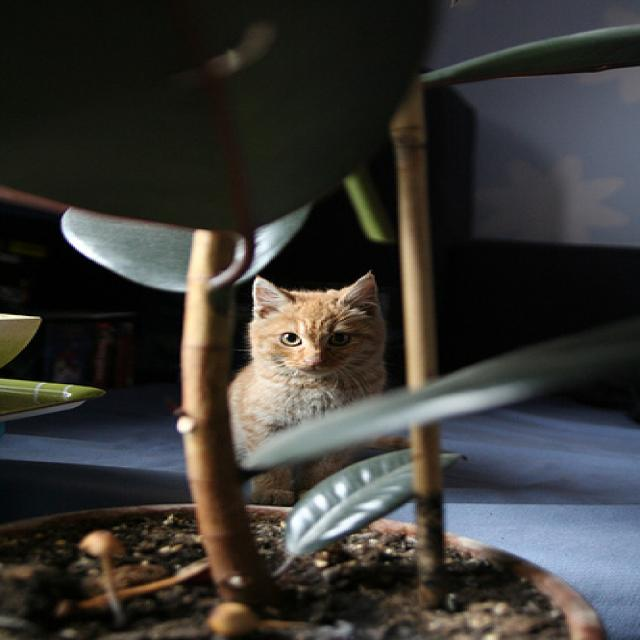left eye: (325, 329, 352, 347)
